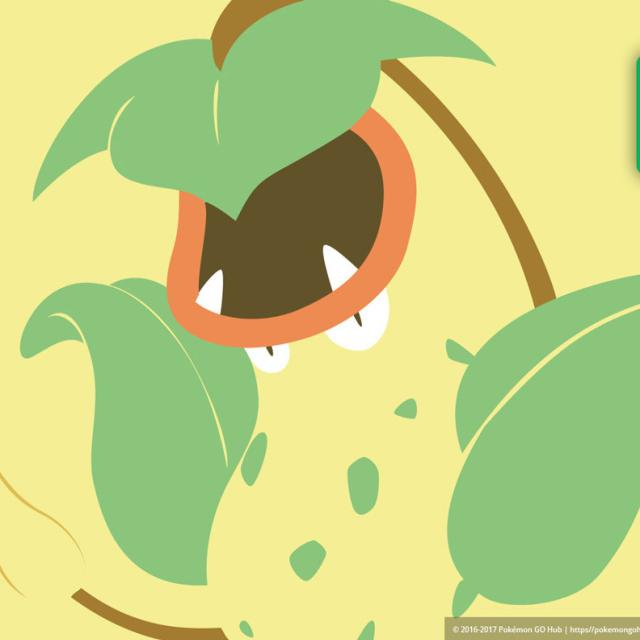Victreebel: (162, 96, 524, 630)
